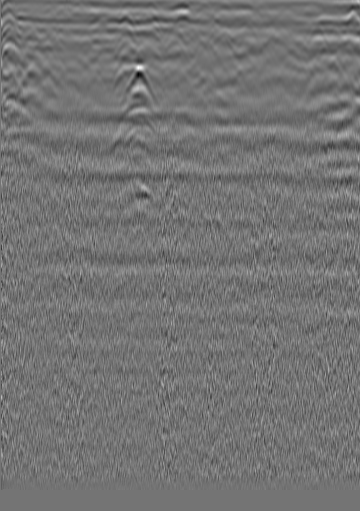가스: (119, 59, 159, 110)
상수: (308, 14, 328, 34)
오수: (23, 29, 43, 49)
우수: (174, 11, 194, 31)
